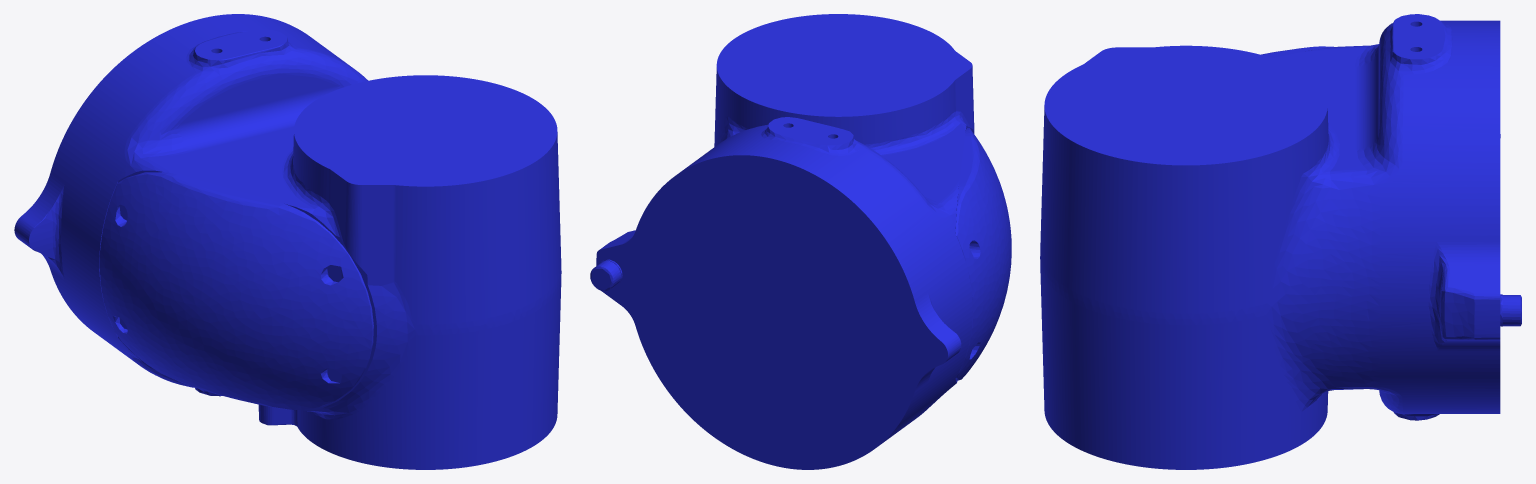
3 renders of one model, left to right at view 1: azimuth 30°, elevation 25°; view 2: azimuth 150°, elevation 25°; view 3: azimuth 270°, elevation 25°, orthographic. The views are drawn at different scales.
Visible parts, largest first — view 1: /Link1/Link1-mesh/0; view 2: /Link1/Link1-mesh/0; view 3: /Link1/Link1-mesh/0.
Part boxes in pixels (<box>): /Link1/Link1-mesh/0: <box>14,14,561,469</box>; /Link1/Link1-mesh/0: <box>590,14,1011,469</box>; /Link1/Link1-mesh/0: <box>1040,14,1521,469</box>.
Size of the model in its own units: 0.1978 by 0.166 by 0.2007.
